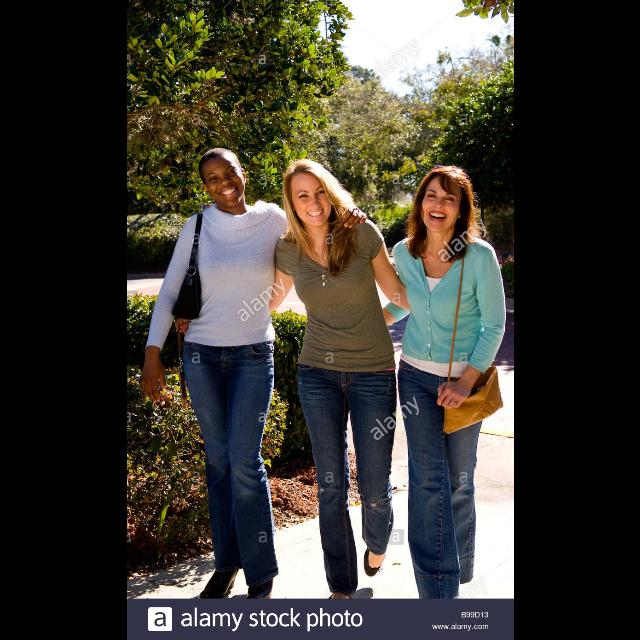head: (419, 167, 471, 233), (285, 161, 335, 227), (197, 148, 247, 208)
person: (173, 157, 441, 611), (140, 145, 370, 602), (364, 162, 508, 616)
